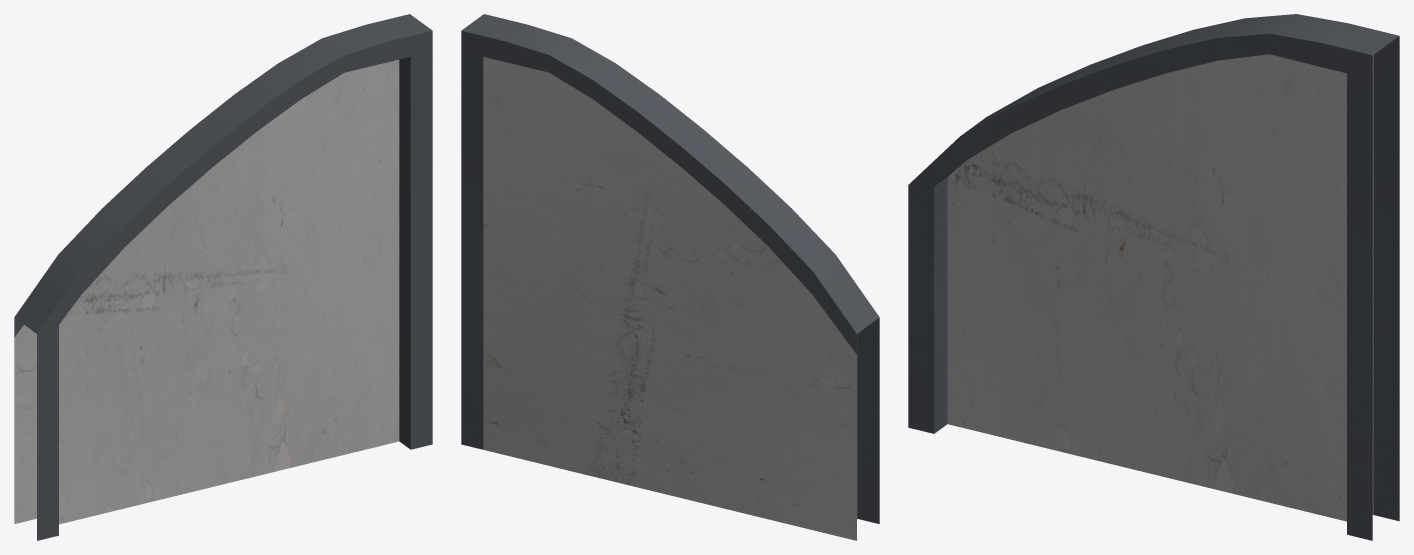
File: WallCornerL.glb
3 renders of one model, left to right at view 1: azimuth 30°, elevation 25°; view 2: azimuth 150°, elevation 25°; view 3: azimuth 330°, elevation 25°, orthographic. The views are drawn at different scales.
Parts seen in each view (by area): view 1: WallCornerL; view 2: WallCornerL; view 3: WallCornerL.
Part boxes in pixels (x1,y1,x2,y2): WallCornerL: [14, 14, 432, 540]; WallCornerL: [461, 14, 879, 540]; WallCornerL: [908, 14, 1399, 540].
Size of the model in its own units: 8 by 8 by 0.7999.
2 materials, 2 textured.
